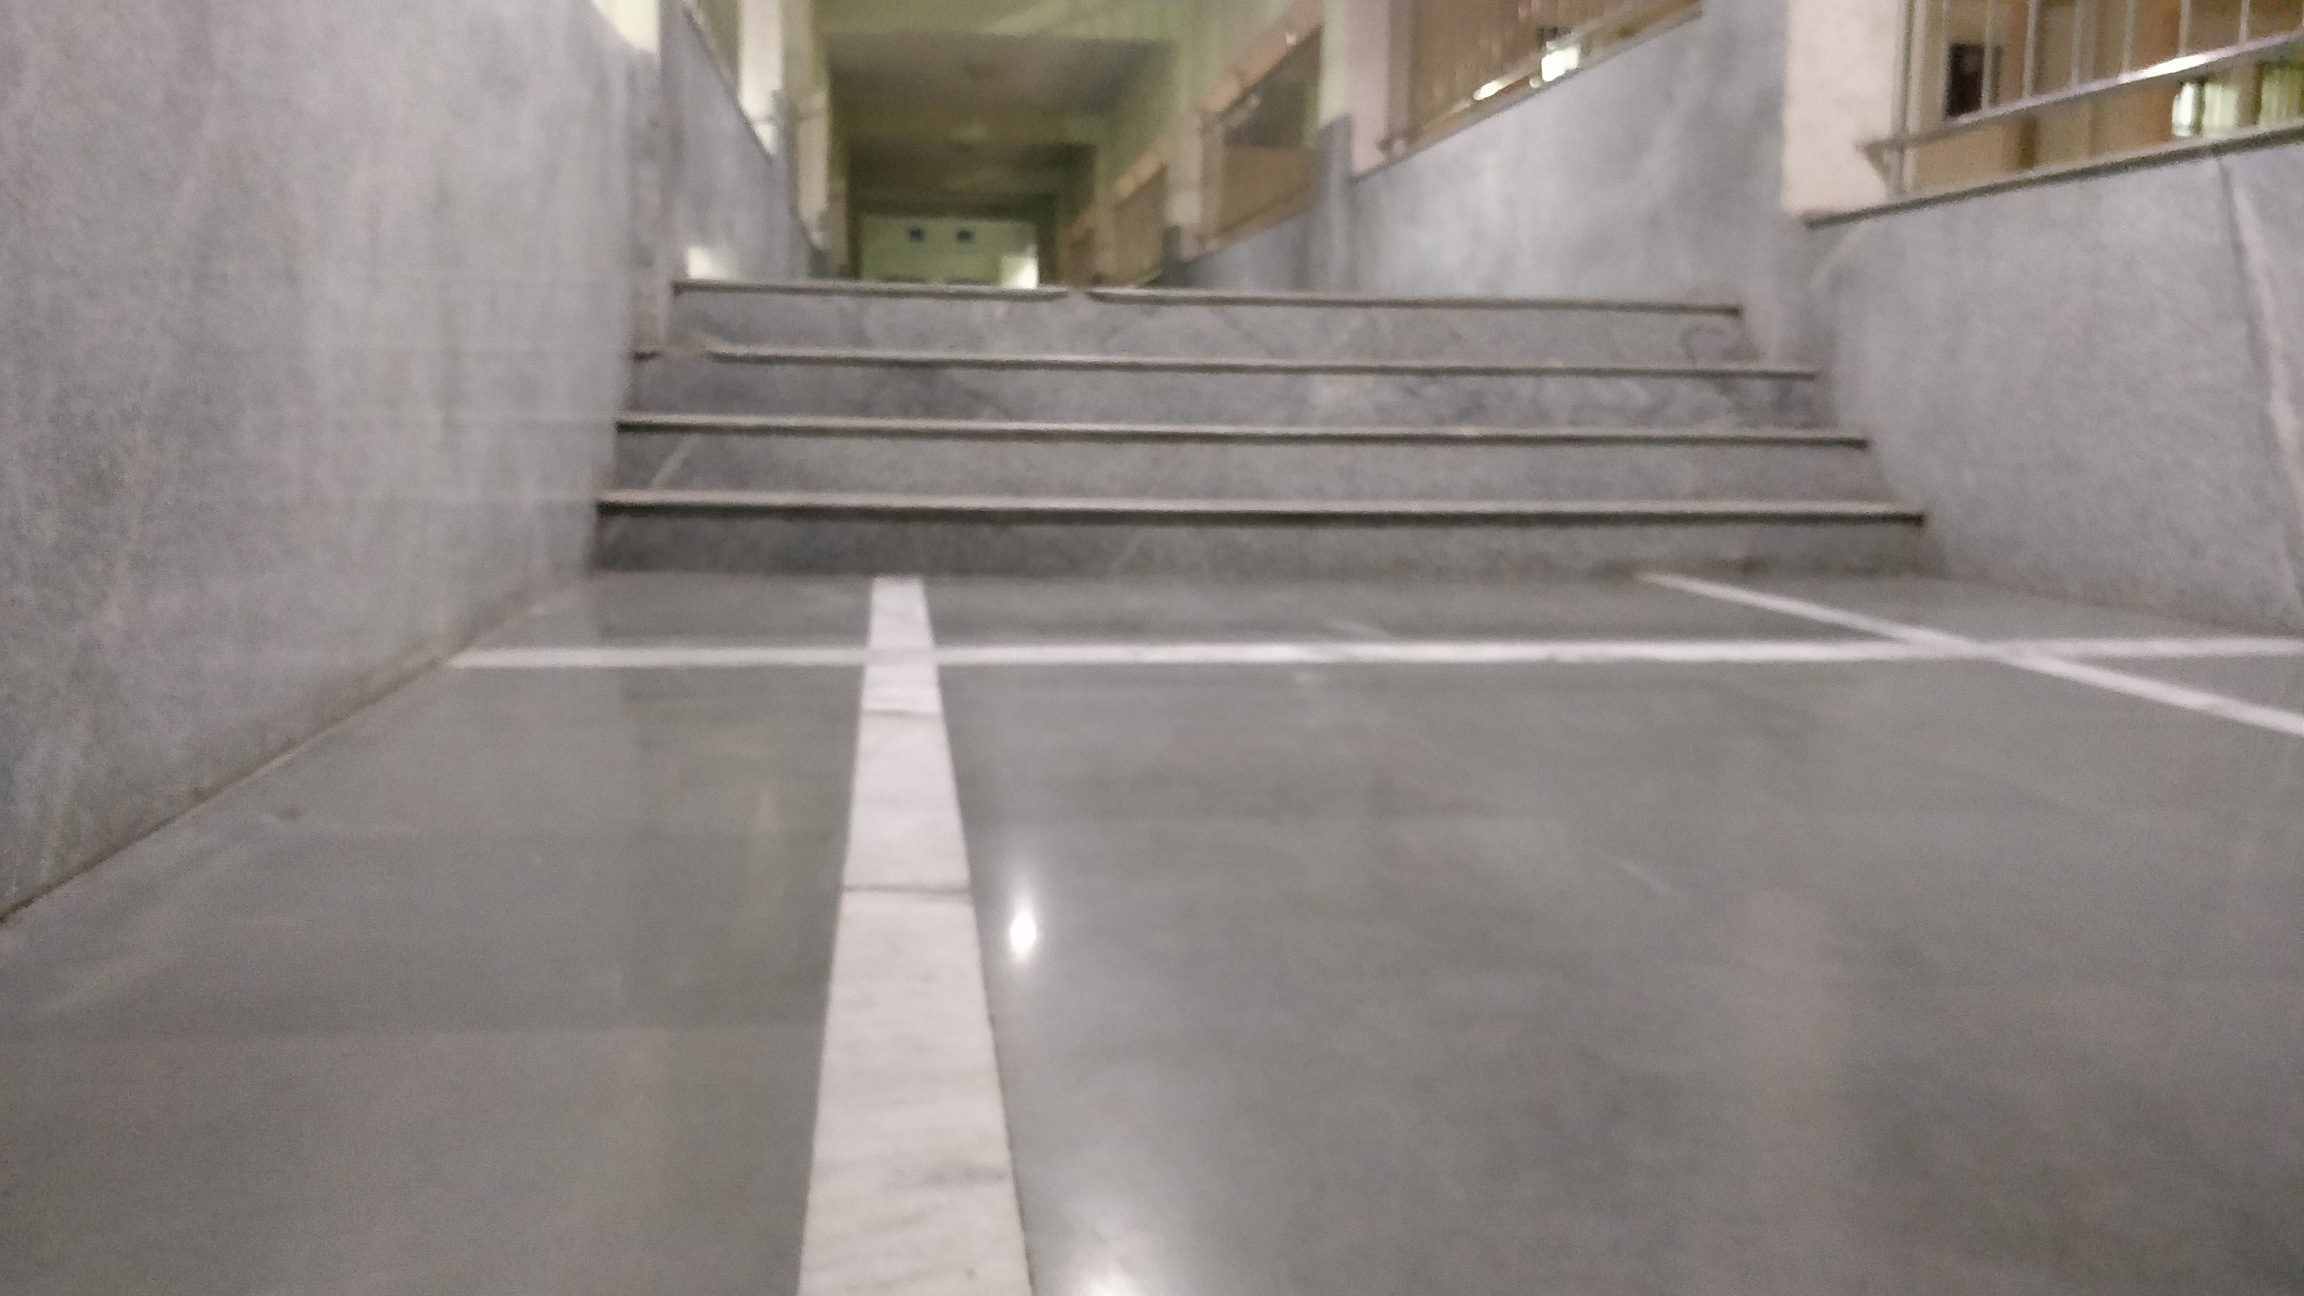stairs_up: (601, 271, 1923, 590)
